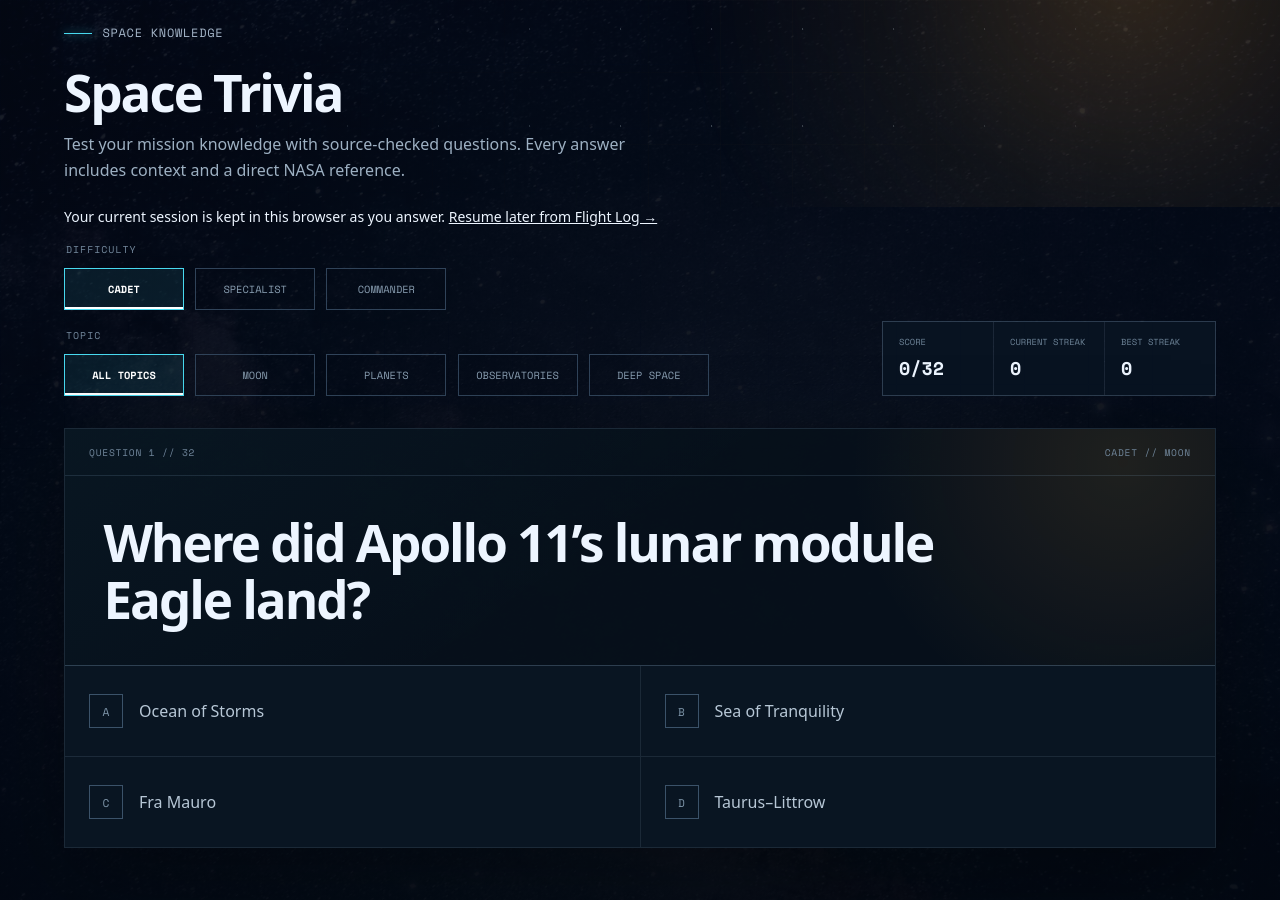
Test: TriviaPage › filters questions by a URL-backed knowledge channel
expect the button "B Sea of Tranquility" is shown: met, box [640,666,1215,756]
Click the radio button labelled "Observatories" at [518, 375], box [458,354,578,396]
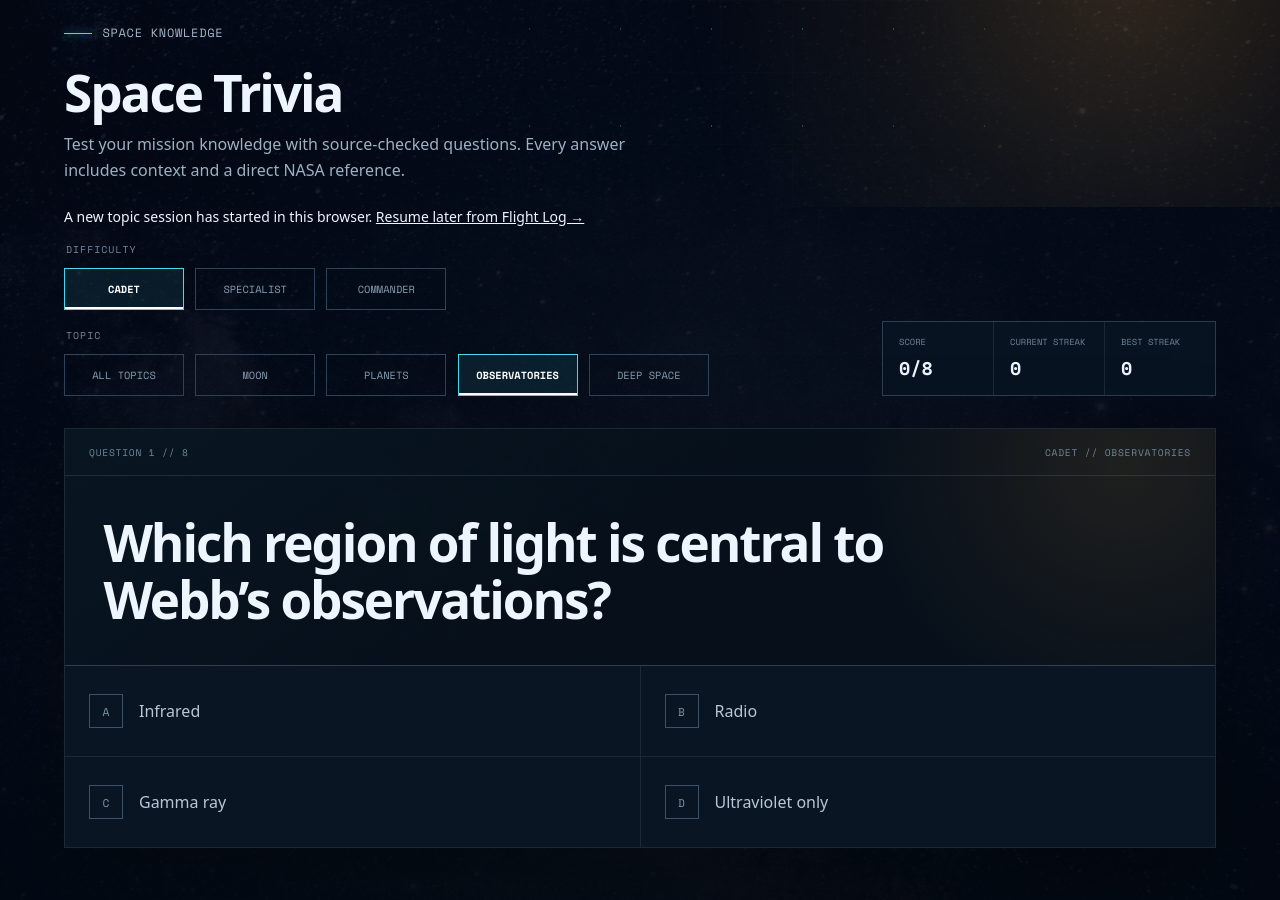
expect the heading "Which region of light is central to Webb’s observations?" is shown: met, box [103,508,883,634]
expect the text "0/8" is shown: met, box [899,354,933,382]
